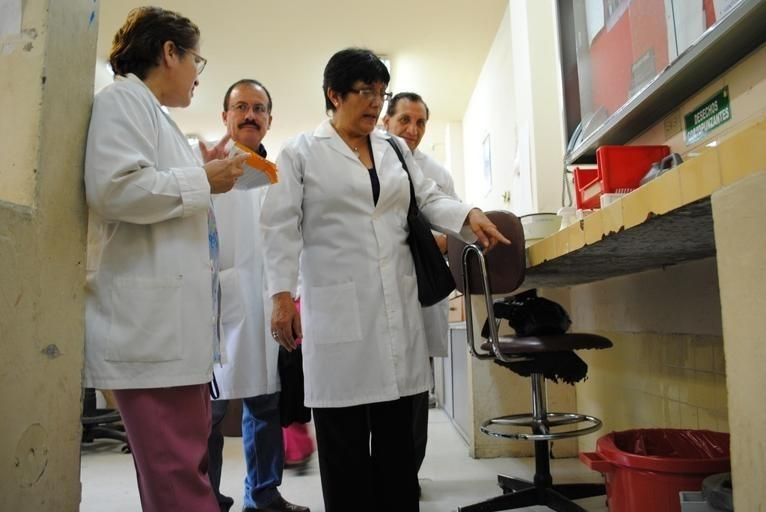Bata-Correcta: (64, 0, 526, 512)
